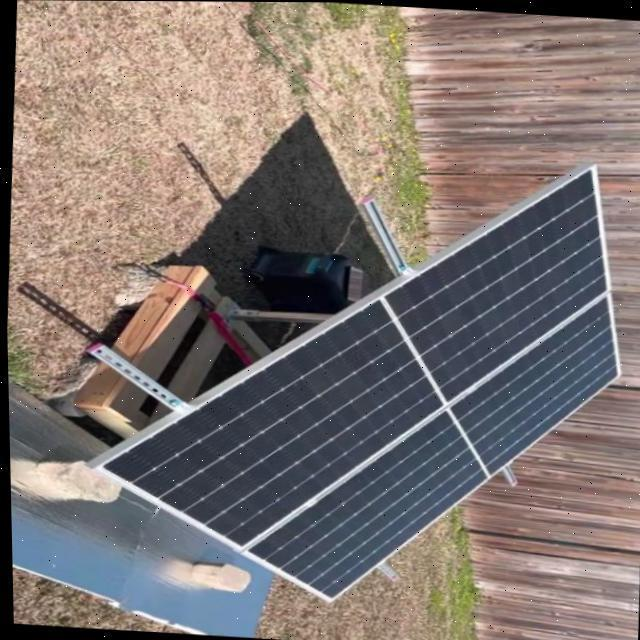Normal Solar Panel: (83, 134, 634, 616)
